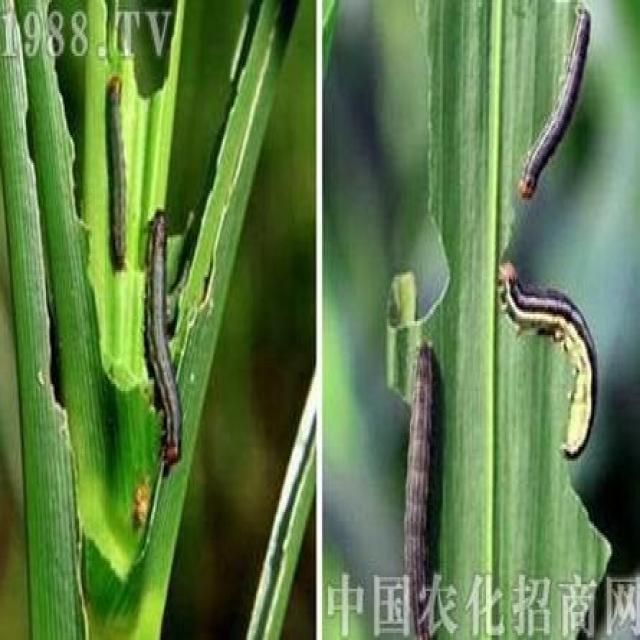army worm: (495, 245, 607, 469), (517, 6, 592, 201), (403, 333, 442, 638), (143, 208, 187, 469), (101, 66, 143, 276)
